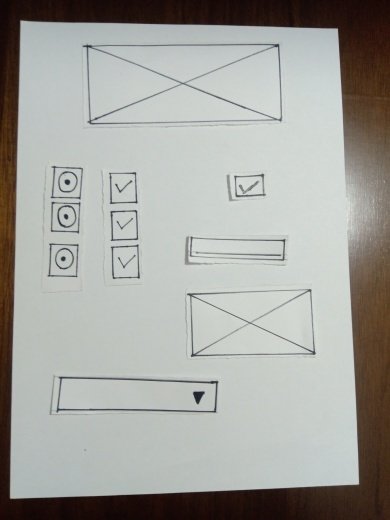checkbox: (109, 174, 137, 203), (111, 247, 139, 276), (109, 212, 137, 241), (232, 176, 267, 197)
dropdown: (58, 375, 217, 412)
img: (84, 44, 280, 123), (190, 290, 316, 356)
radio: (53, 166, 82, 199), (49, 244, 78, 277), (51, 201, 80, 234)
text: (187, 239, 284, 263)
